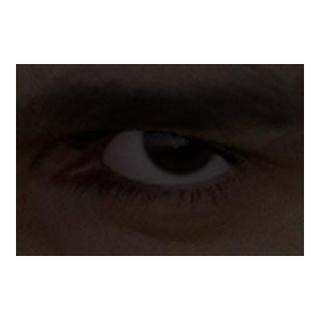pupil: (161, 117, 200, 156)
